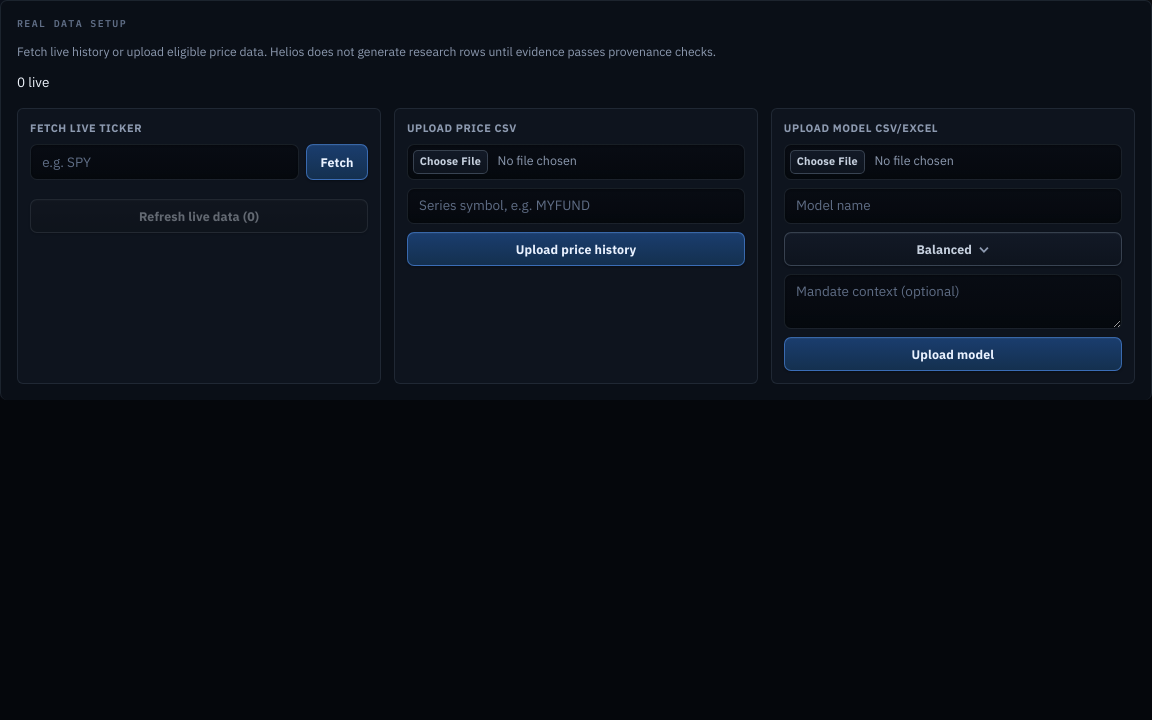
DataIntakePanel › renders the full workspace and retries a structured live-data failure
Expected: the element with class "data-intake-panel--full" is shown, [0, 0, 1151, 400]
Expected: the number of forms is 3, [17, 108, 381, 384]; [394, 108, 758, 384]; [771, 108, 1135, 384]
Type "SPY" into the field named "Live ticker symbol". click: (164, 162)
box: [30, 144, 299, 180]
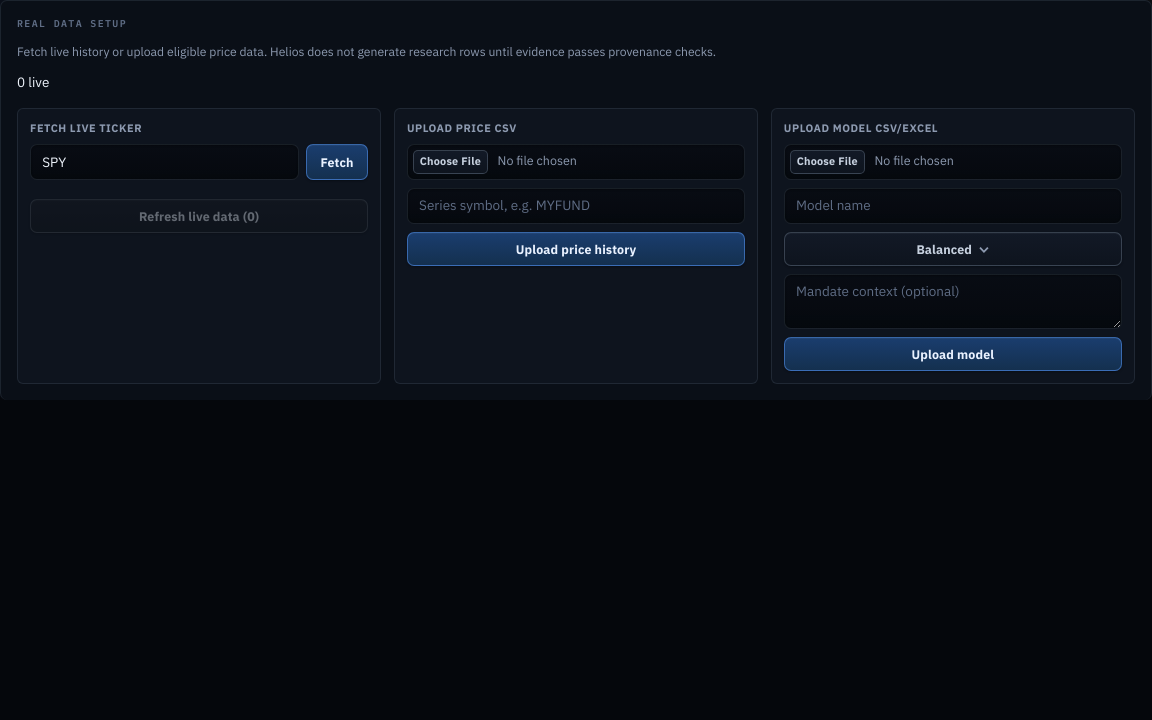
Click the button "Fetch". click: (337, 162)
box: [306, 144, 368, 180]
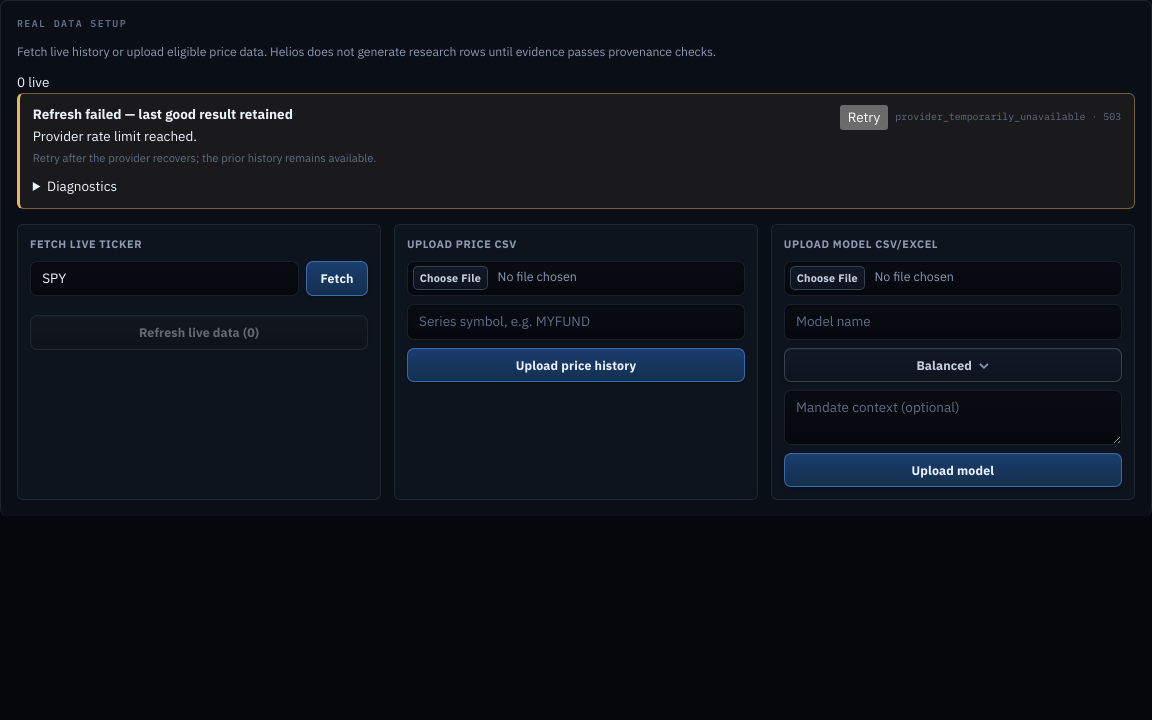
Expected: the text "provider_temporarily_unavailable · 503" is shown, [895, 110, 1121, 125]
Expected: the text "prior history remains available" is shown, [33, 150, 376, 165]
Click the button "Retry". click: (864, 118)
box: [840, 105, 888, 130]
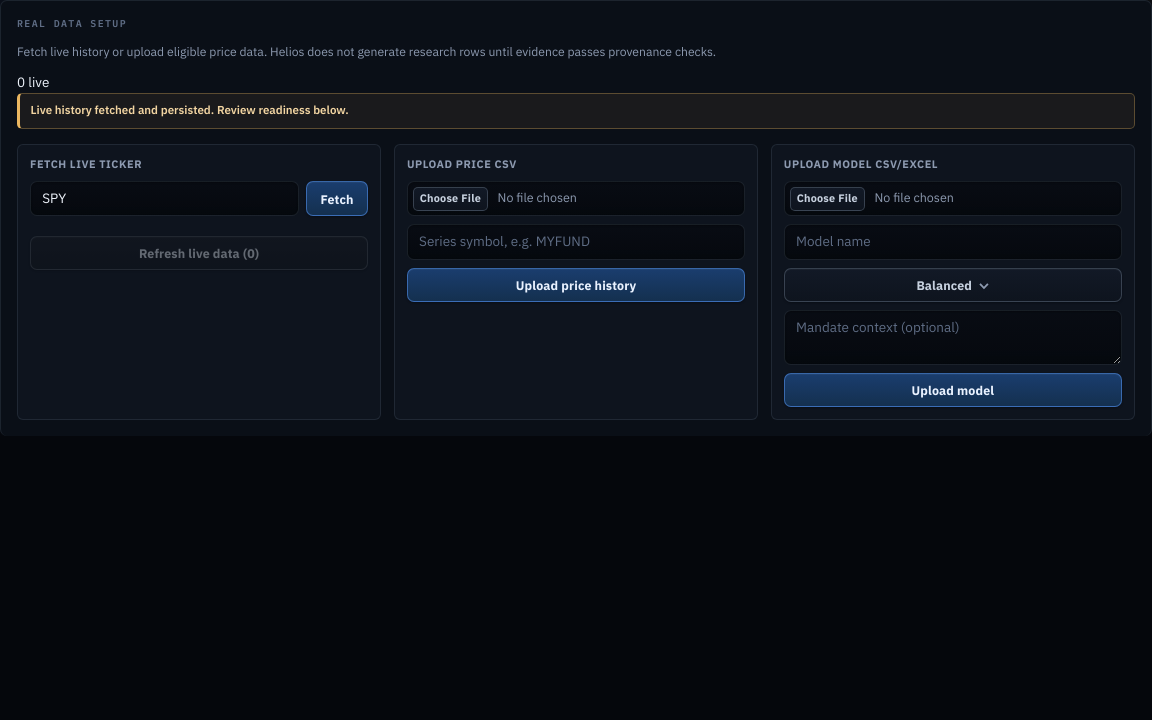
Expected: the text "Live history fetched and persisted. Review readiness below." is shown, [17, 92, 1135, 129]
